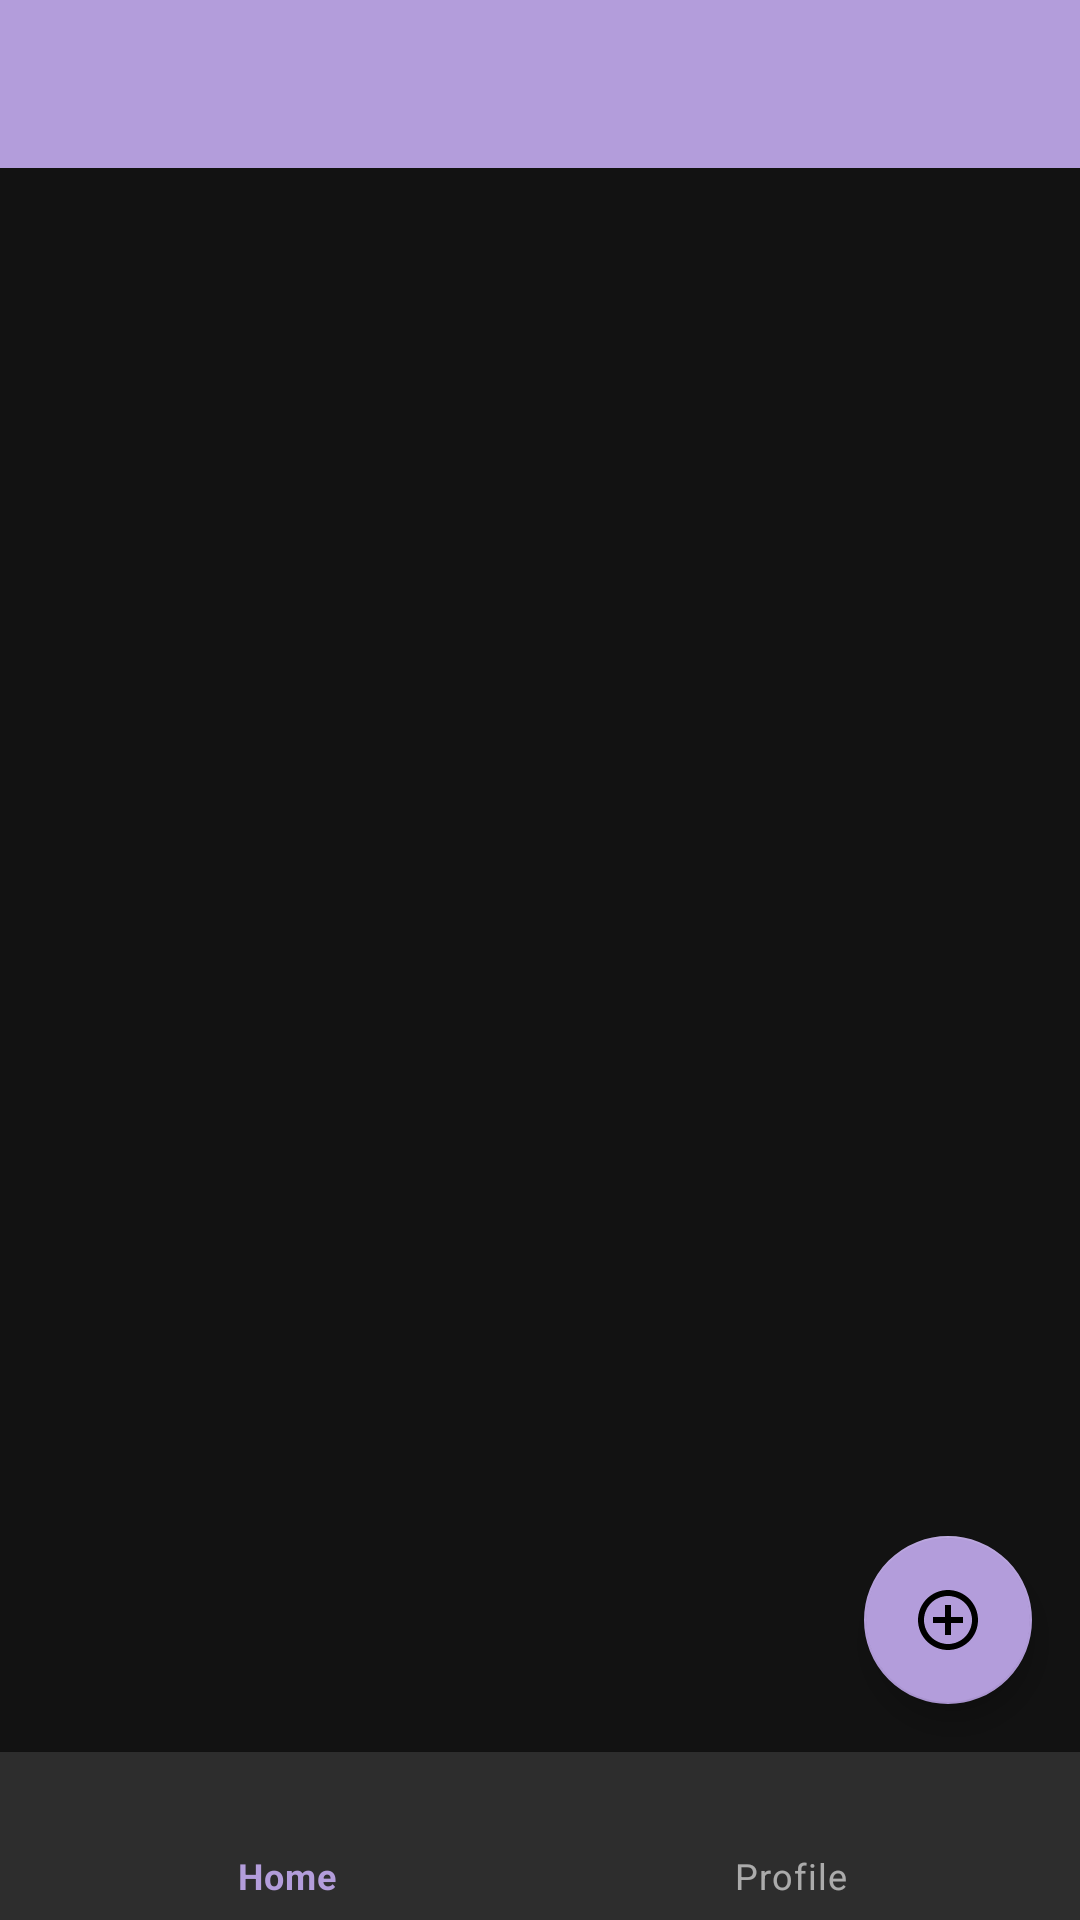

Icon click points for this 1080px×1920px phone screenshot, format (x,y):
control point: (948,1620)
